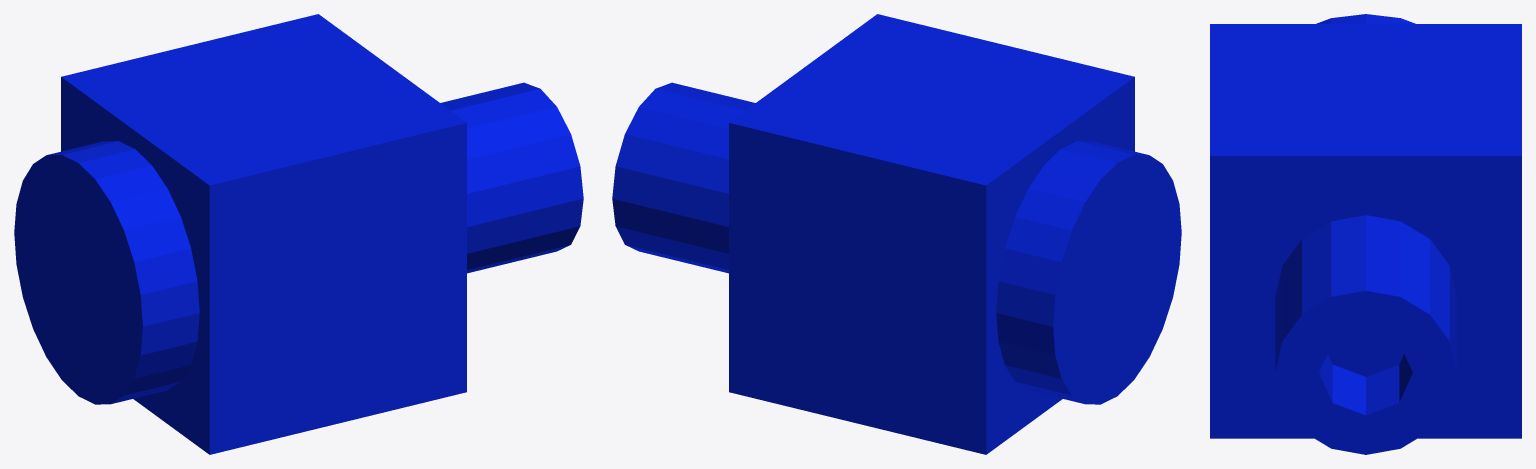
The model's file is placeholder 2.glb.
The picture shows the model from 3 angles, left to right: view 1: azimuth 30°, elevation 25°; view 2: azimuth 150°, elevation 25°; view 3: azimuth 270°, elevation 25°; orthographic projection. The views are drawn at different scales.
Parts seen in each view (by area): view 1: Cube; view 2: Cube; view 3: Cube.
Part boxes in pixels (x1,y1,x2,y2): Cube: (14,14,583,454); Cube: (612,14,1181,454); Cube: (1210,14,1521,454).
Size of the model in its own units: 3.59 by 2 by 2.
